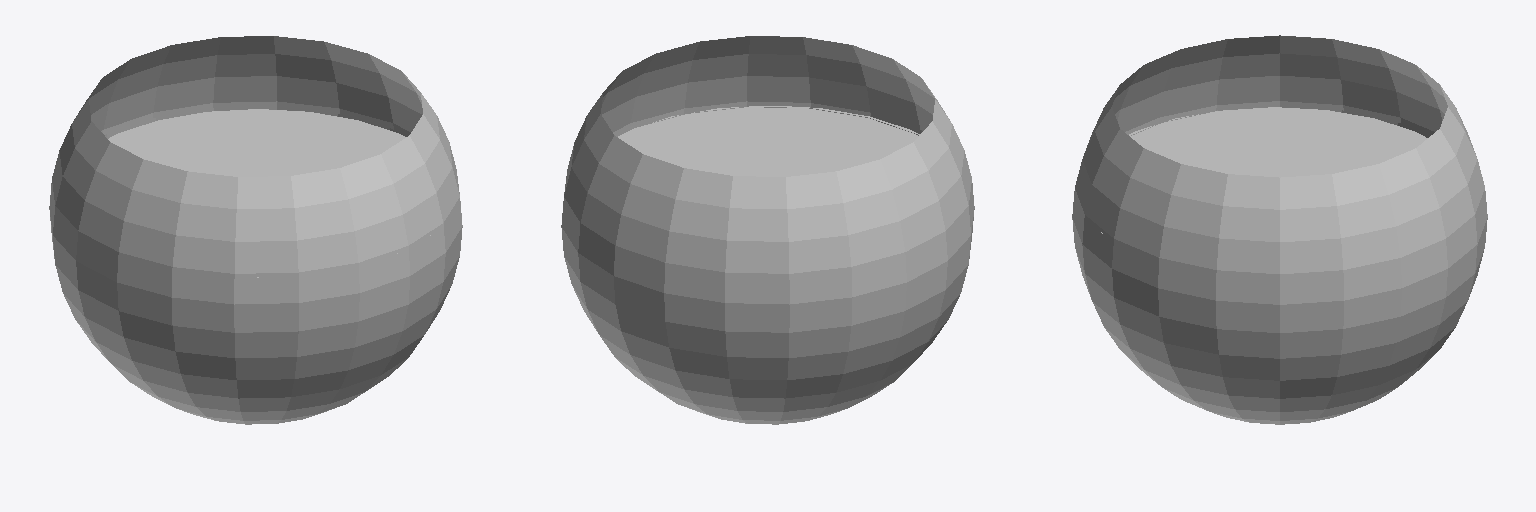
The model's file is pecera.obj.
The picture shows the model from 3 angles: view 1: azimuth 30°, elevation 25°; view 2: azimuth 150°, elevation 25°; view 3: azimuth 270°, elevation 25°; orthographic projection.
Parts seen in each view (by area): view 1: polySurface77; view 2: polySurface77; view 3: polySurface77.
Boxes of the visible parts, box(x1,y1,x2,y2) form: polySurface77: box(49, 36, 462, 424); polySurface77: box(561, 36, 974, 424); polySurface77: box(1072, 35, 1487, 424).
Size of the model in its own units: 0.7905 by 0.6275 by 0.7905.